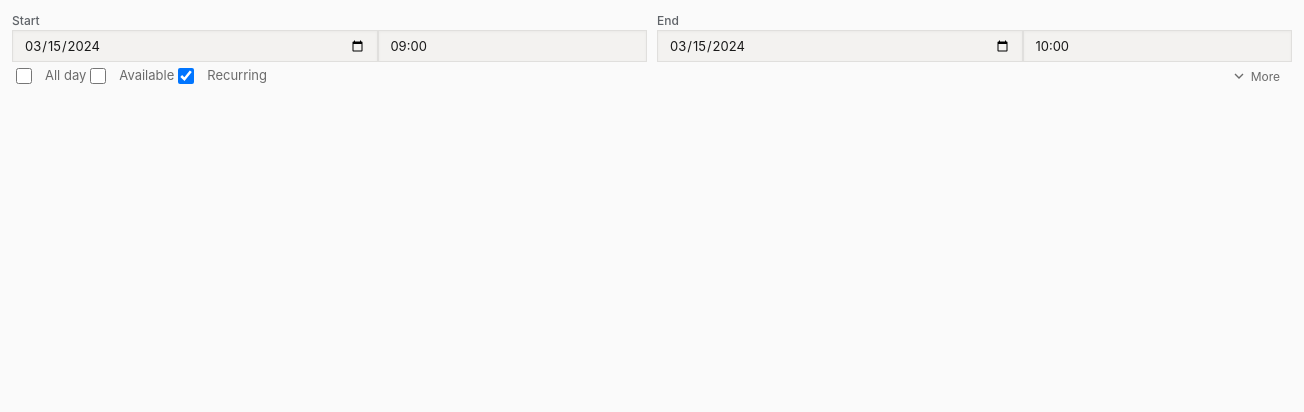
Test case: EventFormFields › MonthlyPatternPicker › shows lastWeekday selector when all byDayOrdinals values are -1
Click the button "More": (1255, 76) x1=1219 y1=62 x2=1292 y2=90
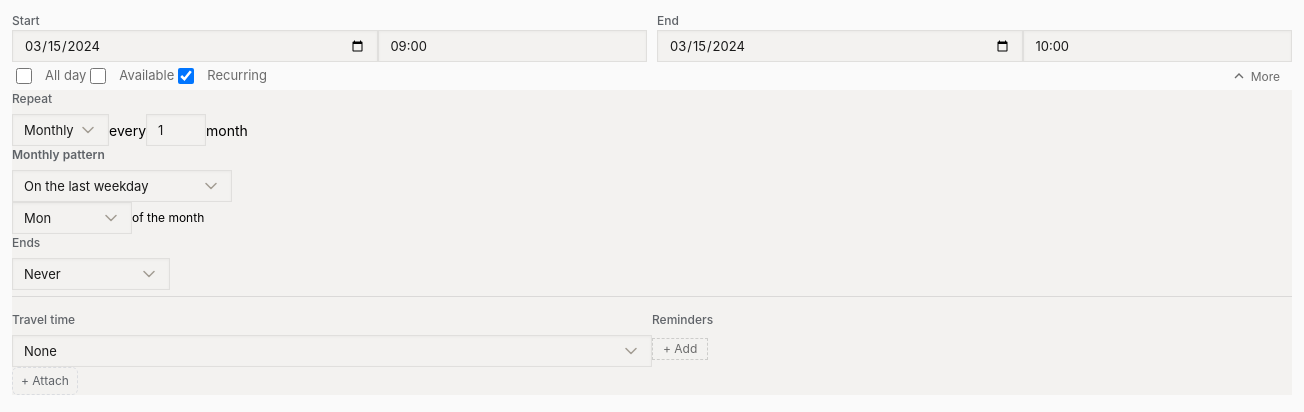
Expected: the dropdown showing "On the last weekday" is shown, x1=12 y1=170 x2=232 y2=202
Expected: the dropdown showing "Mon" is shown, x1=12 y1=202 x2=132 y2=234
